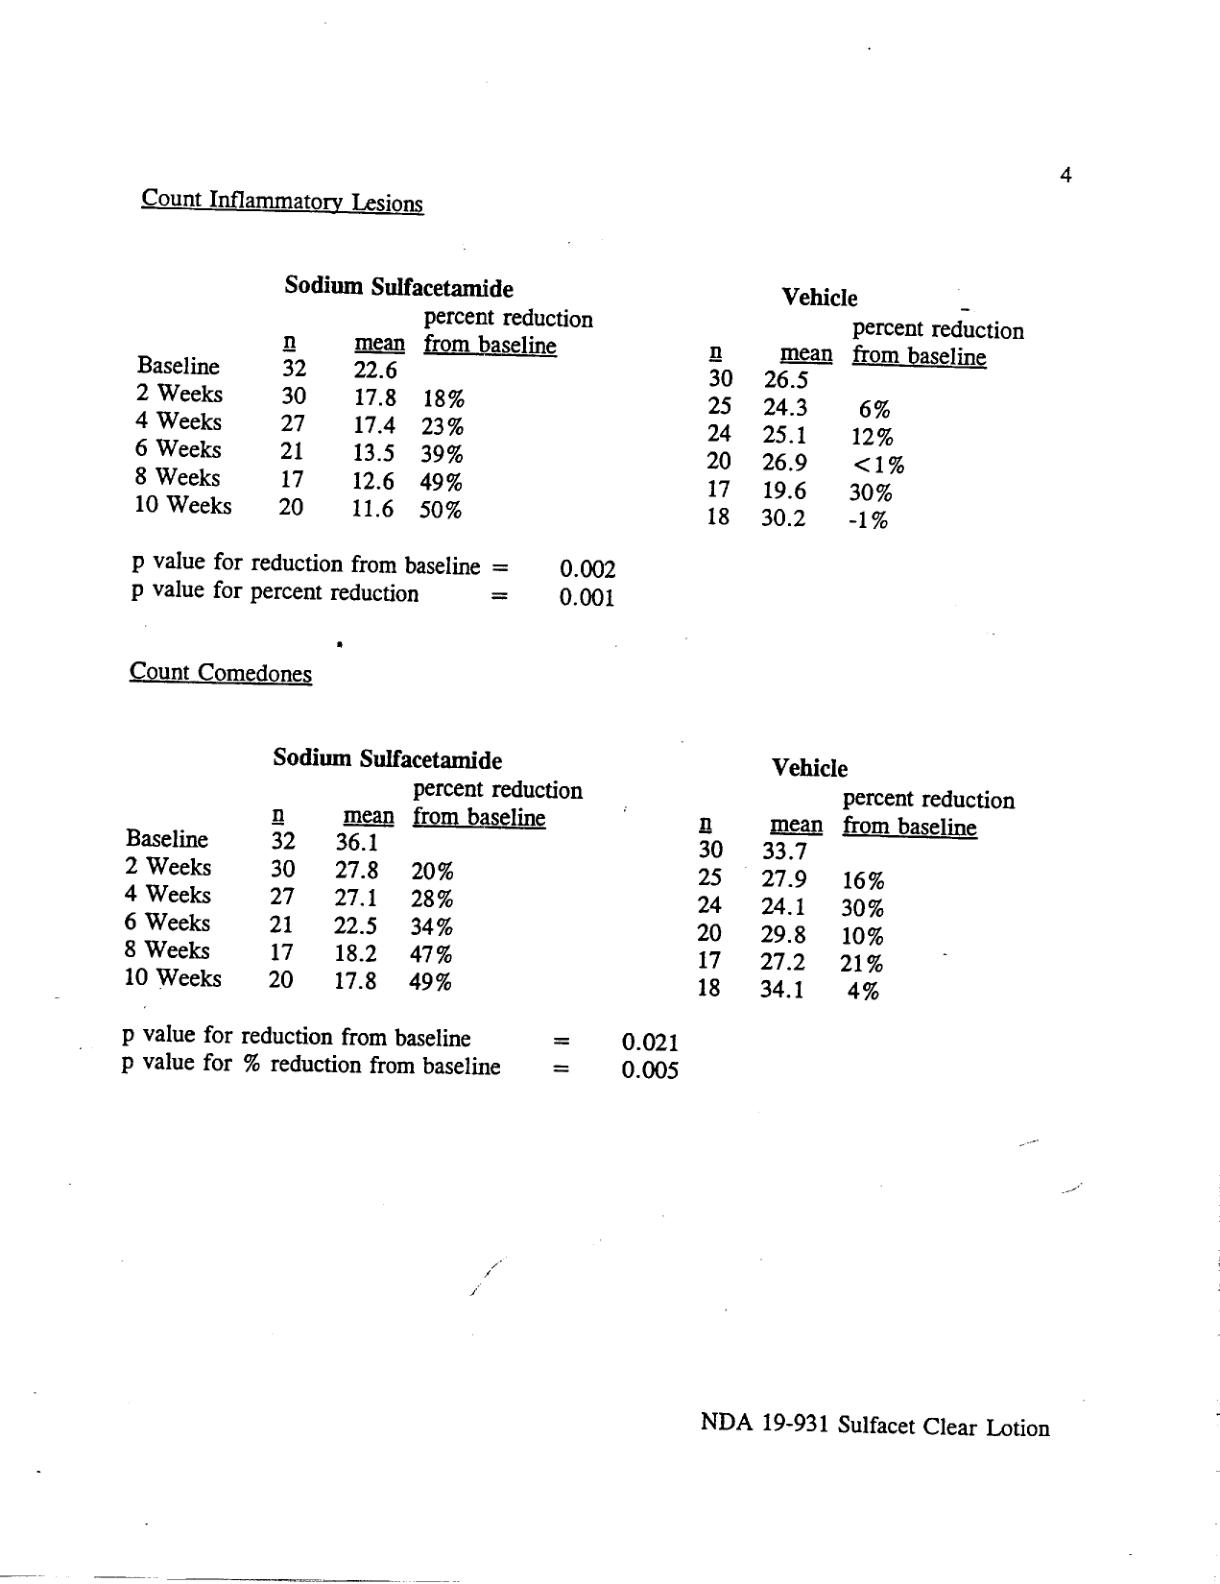nolines: (129, 272, 1032, 543), (122, 747, 1019, 1001)
